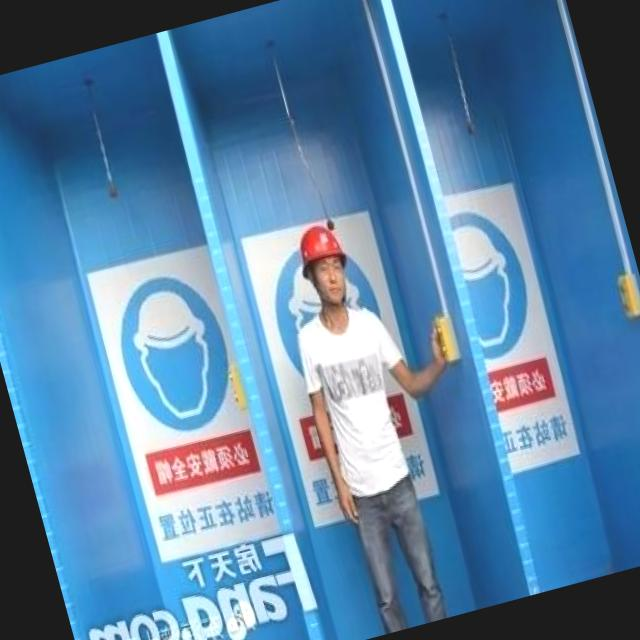helmet: (288, 213, 346, 277)
no-vest: (278, 296, 447, 534)
